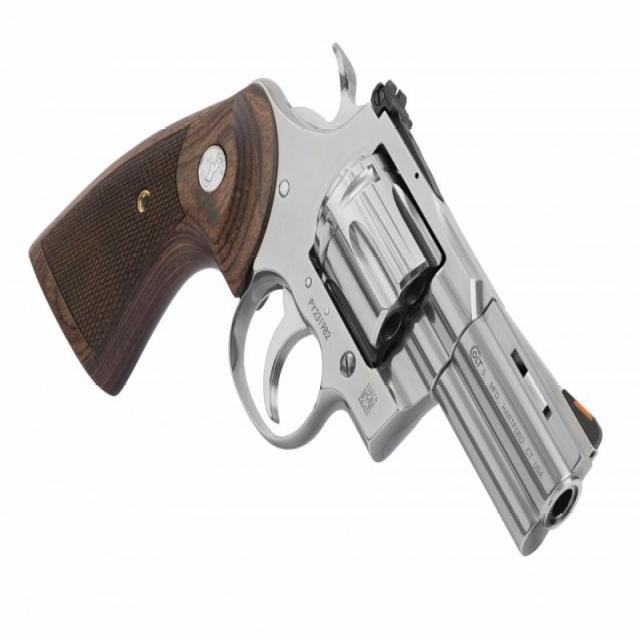HandGun: (33, 48, 603, 556)
